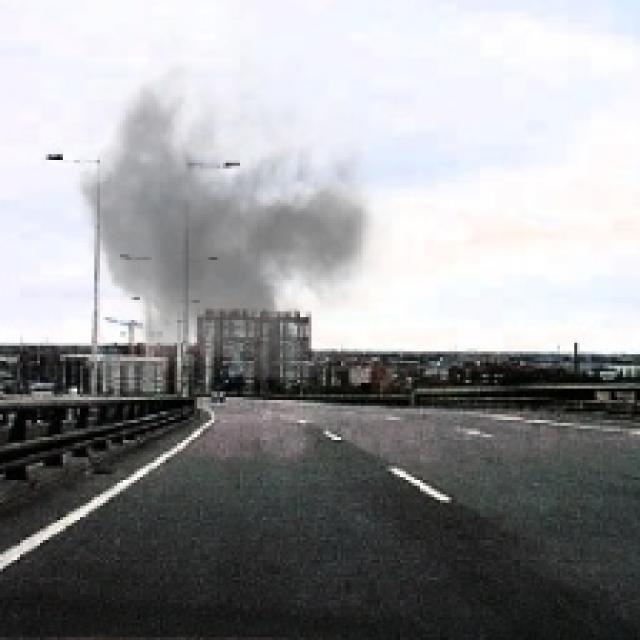smoke: (54, 17, 400, 403)
